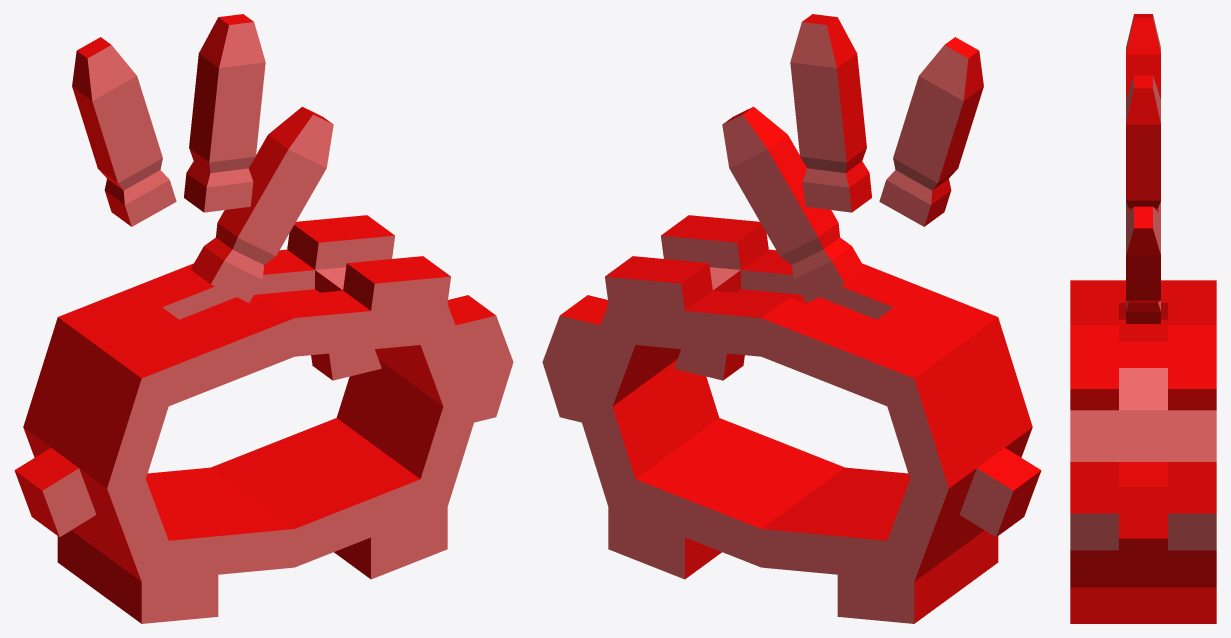
Rendered from Kit_BigPocket.fbx.
3 renders of one model, left to right at view 1: azimuth 30°, elevation 25°; view 2: azimuth 150°, elevation 25°; view 3: azimuth 270°, elevation 25°, orthographic. The views are drawn at different scales.
Visible parts, largest first — view 1: Cube.006; view 2: Cube.006; view 3: Cube.006.
Part boxes in pixels (<box>): Cube.006: <box>14,14,513,623</box>; Cube.006: <box>542,14,1041,623</box>; Cube.006: <box>1070,14,1216,623</box>.
Bounding box in the file's own units: 648 × 739 × 200.
